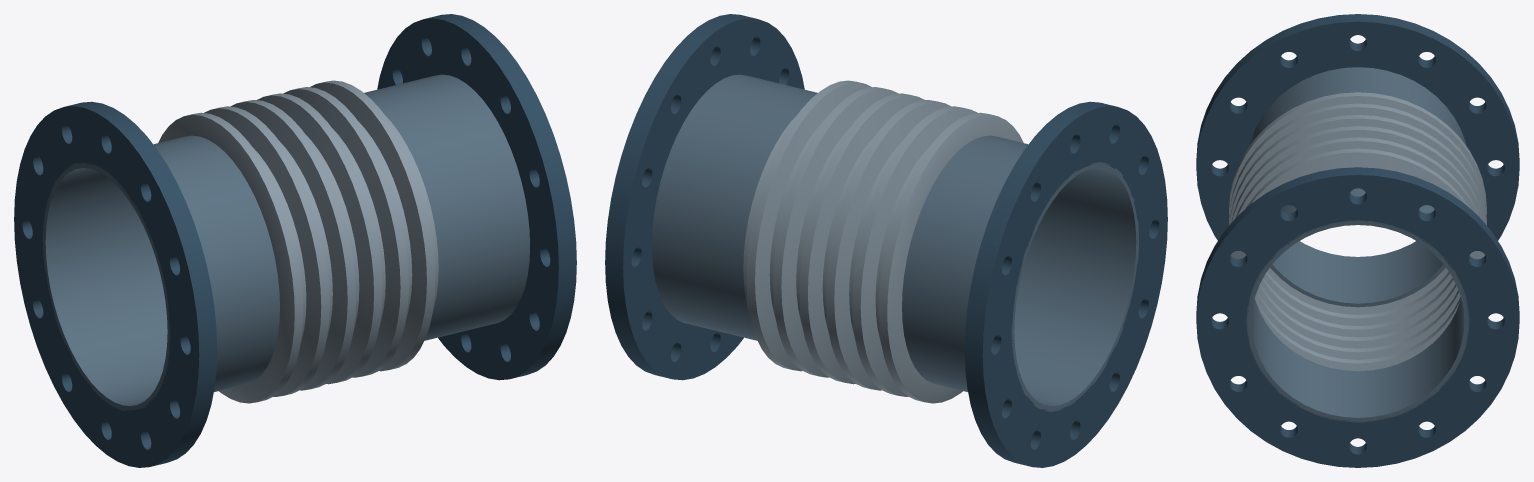
The model's file is flan-dn300-L555-D325-f.glb.
The picture shows the model from 3 angles, left to right: view 1: azimuth 30°, elevation 25°; view 2: azimuth 150°, elevation 25°; view 3: azimuth 270°, elevation 25°; orthographic projection. The views are drawn at different scales.
Visible parts, largest first — view 1: prokladka_silfon_1, patrubok_1, homut_flanec_1, homut_flanec_2, patrubok_2; view 2: prokladka_silfon_1, patrubok_1, homut_flanec_1, homut_flanec_2, patrubok_2; view 3: homut_flanec_2, prokladka_silfon_1, homut_flanec_1, patrubok_2, patrubok_1.
Boxes of the visible parts, <box> form: prokladka_silfon_1: <box>158,80,438,403</box>; patrubok_1: <box>42,135,279,411</box>; homut_flanec_1: <box>14,101,217,467</box>; homut_flanec_2: <box>377,14,576,380</box>; patrubok_2: <box>364,74,529,340</box>; prokladka_silfon_1: <box>743,80,1023,403</box>; patrubok_1: <box>902,135,1139,411</box>; homut_flanec_1: <box>964,101,1167,467</box>; homut_flanec_2: <box>605,14,804,380</box>; patrubok_2: <box>652,74,817,340</box>; homut_flanec_2: <box>1196,167,1519,467</box>; prokladka_silfon_1: <box>1229,92,1486,371</box>; homut_flanec_1: <box>1196,14,1519,240</box>; patrubok_2: <box>1246,188,1469,422</box>; patrubok_1: <box>1249,67,1466,307</box>.
Bounding box in the file's own units: 555 × 471 × 471.
